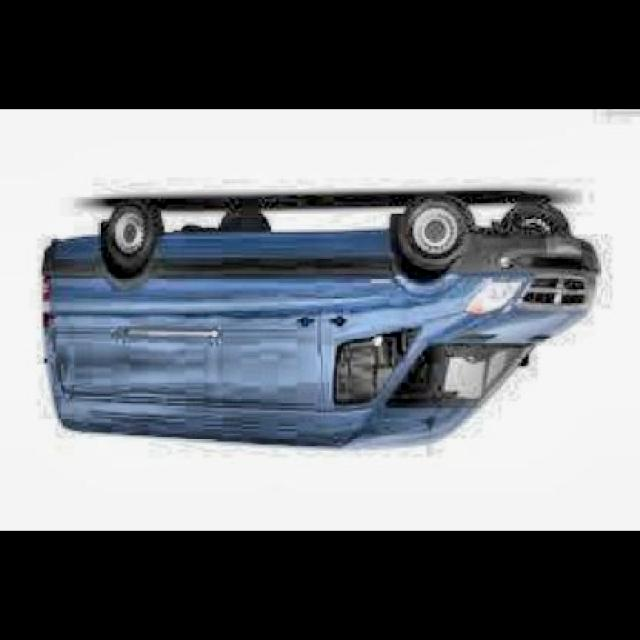blue: (41, 192, 596, 450)
